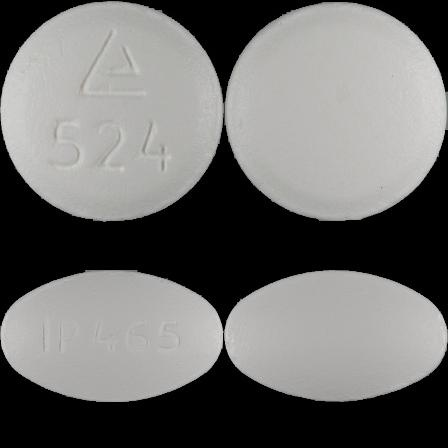43063-349: (0, 0, 224, 224)
